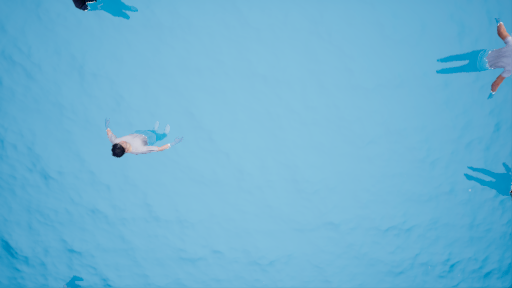person: (434, 14, 512, 99), (102, 120, 181, 157), (69, 1, 145, 29)
